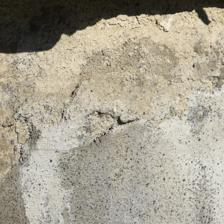Crack: (38, 0, 105, 61), (43, 4, 67, 58)
